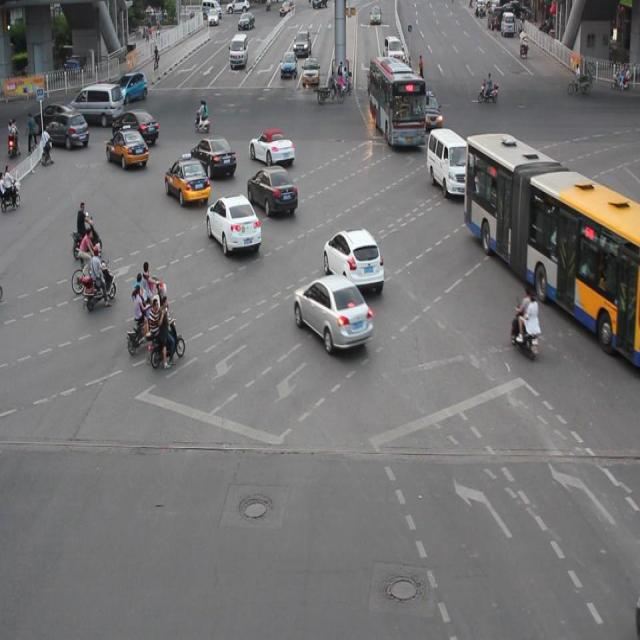car: (293, 272, 372, 350), (322, 227, 383, 293), (206, 191, 262, 253), (246, 163, 298, 217), (164, 155, 211, 205), (190, 136, 236, 180), (106, 127, 150, 169), (111, 109, 159, 145), (249, 129, 294, 164)
truck: (427, 128, 472, 196), (68, 82, 124, 126)
van: (464, 133, 640, 364), (368, 56, 424, 147)
